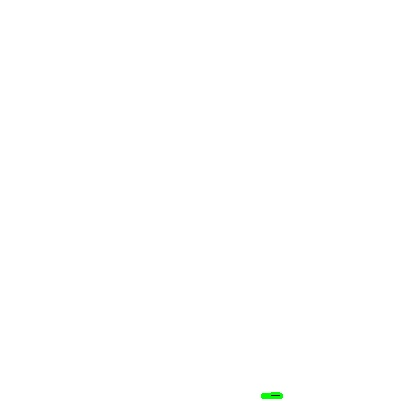line_segment: (262, 393, 282, 398)
